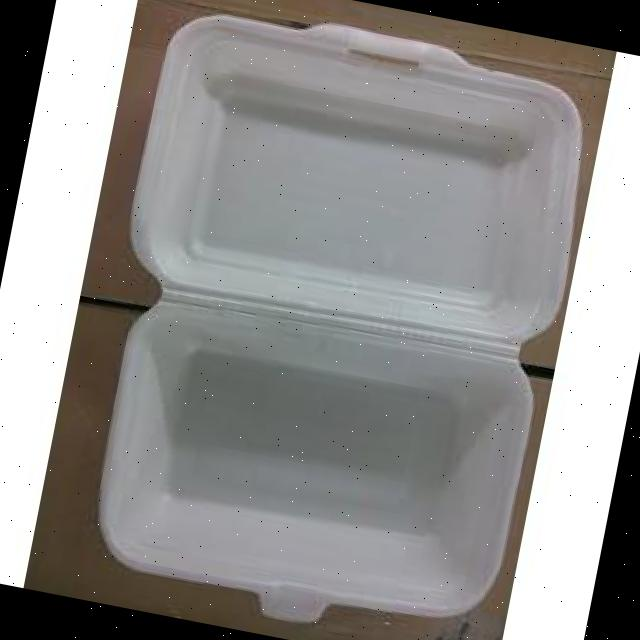styrofoam: (56, 0, 606, 640)
